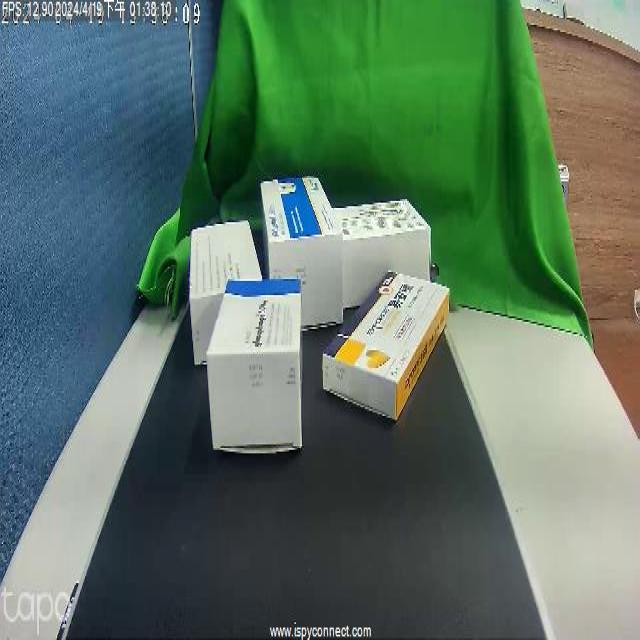box: (199, 281, 307, 447), (346, 285, 440, 430), (260, 157, 330, 306), (189, 208, 263, 319), (337, 176, 411, 278)
